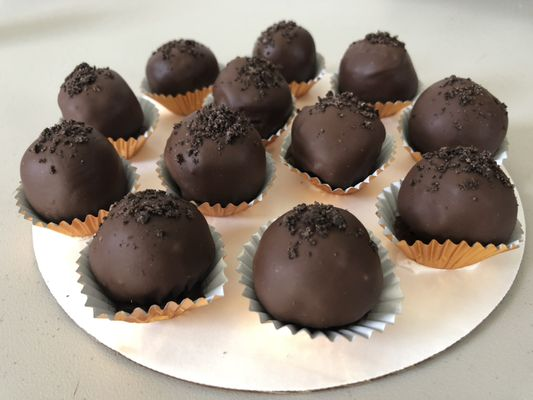salad: (251, 202, 386, 330), (407, 75, 509, 158)
sushi: (87, 189, 218, 311), (162, 104, 268, 216), (19, 120, 130, 225), (286, 91, 386, 192), (57, 63, 151, 158), (212, 56, 295, 142), (144, 38, 220, 116)
